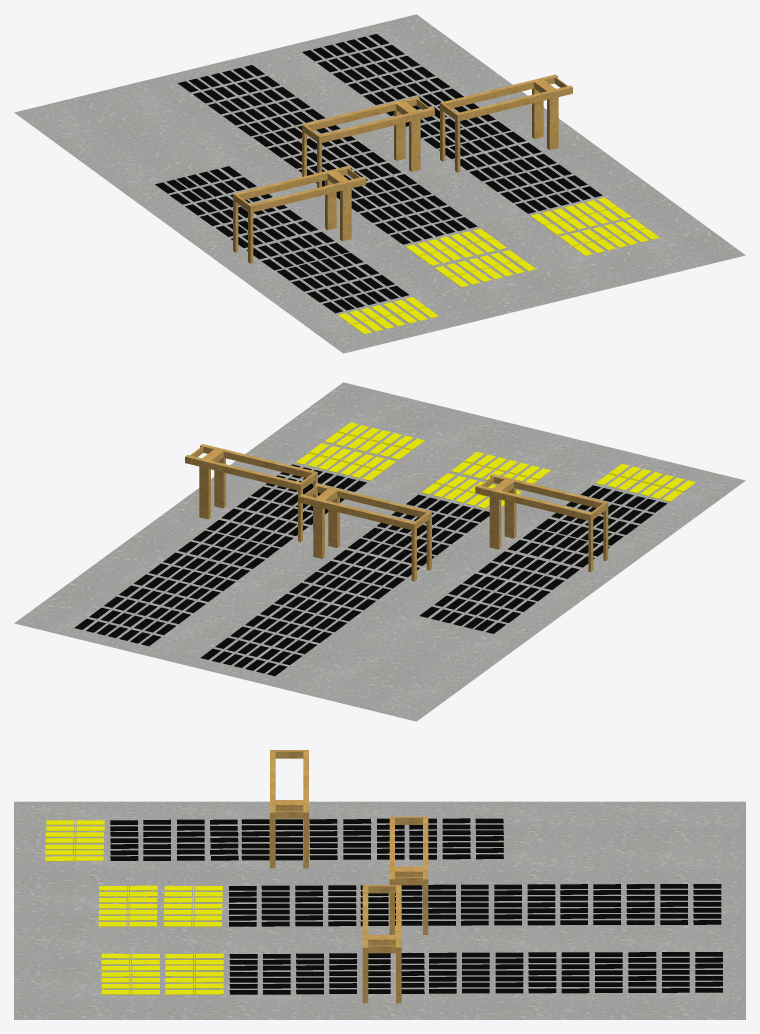
Rendered from textured-new-depo-yon.glb.
3 views of the same model, one above another, from view 1: azimuth 30°, elevation 25°; view 2: azimuth 150°, elevation 25°; view 3: azimuth 270°, elevation 25° (orthographic). The views are drawn at different scales.
Visible parts, largest first — view 1: Plane, RTG_A, RTG_C, RTG_B; view 2: Plane, RTG_A, RTG_B, RTG_C; view 3: Plane, RTG_C, RTG_A, RTG_B.
Part boxes in pixels (box(x1,y1,x2,y2)): Plane: box(14, 14, 745, 353); RTG_A: box(233, 165, 366, 263); RTG_C: box(440, 74, 572, 172); RTG_B: box(302, 96, 434, 187); Plane: box(14, 382, 745, 721); RTG_A: box(475, 474, 608, 571); RTG_B: box(298, 483, 431, 581); RTG_C: box(185, 444, 317, 541); Plane: box(14, 801, 745, 1019); RTG_C: box(362, 885, 401, 1003); RTG_A: box(270, 750, 308, 868); RTG_B: box(389, 816, 428, 934).
Bounding box in the file's own units: 133 × 18.03 × 188.
Materials: 40 (4 with a texture image).
